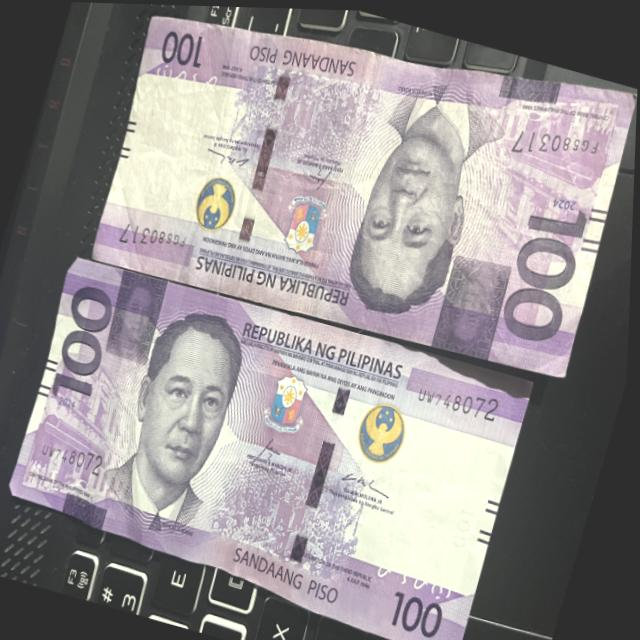concealed_value: (429, 239, 520, 365), (103, 266, 171, 368)
security_thread: (215, 29, 308, 297), (280, 333, 368, 601)
serial_number: (498, 102, 614, 184), (409, 372, 505, 436), (105, 210, 200, 274), (34, 424, 116, 482)
value: (486, 180, 602, 347), (36, 270, 130, 419)
value_watermark: (443, 493, 489, 556)
watermark: (114, 59, 238, 239), (380, 411, 497, 564)
